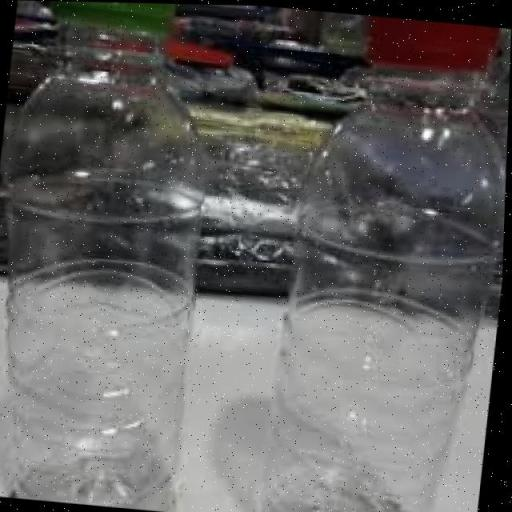plastic: (266, 11, 512, 512), (0, 0, 242, 509)
